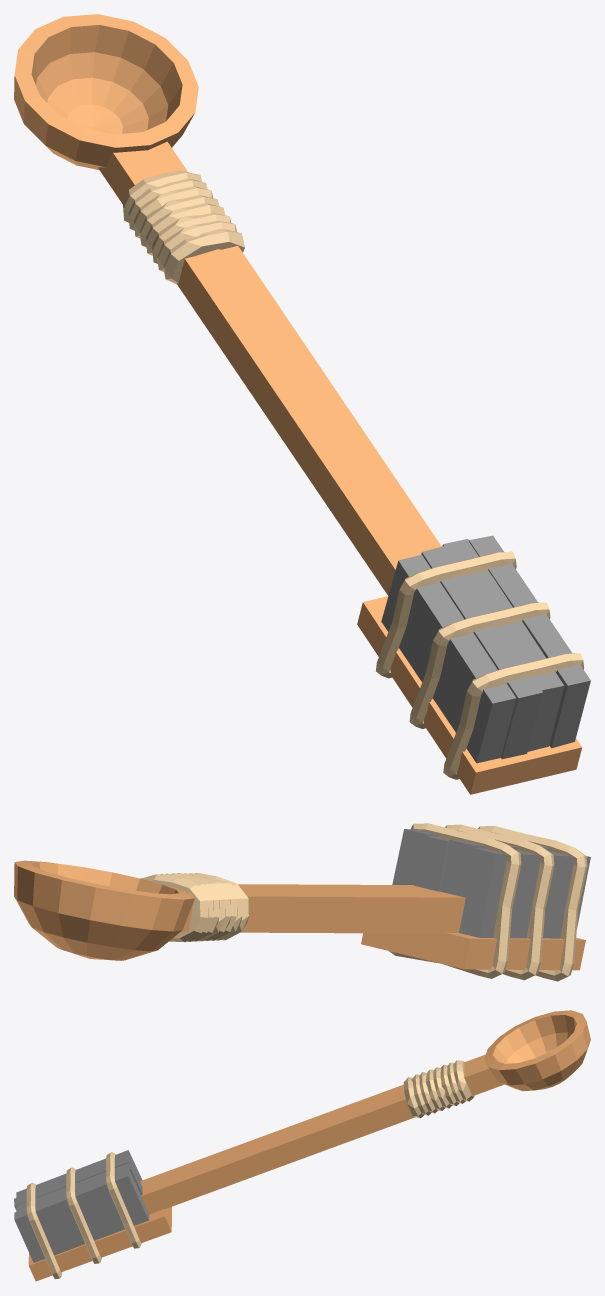
The model's file is catapult.arm.fbx.
3 views of the same model, one above another, from view 1: azimuth 30°, elevation 25°; view 2: azimuth 150°, elevation 25°; view 3: azimuth 270°, elevation 25° (orthographic). The views are drawn at different scales.
Visible parts, largest first — view 1: catapult.arm; view 2: catapult.arm; view 3: catapult.arm.
Boxes of the visible parts, x1=… form: catapult.arm: x1=14, y1=14, x2=590, y2=794; catapult.arm: x1=14, y1=823, x2=590, y2=981; catapult.arm: x1=14, y1=1010, x2=590, y2=1281.
Bounding box in the file's own units: 0.7189 × 1.77 × 3.74.
